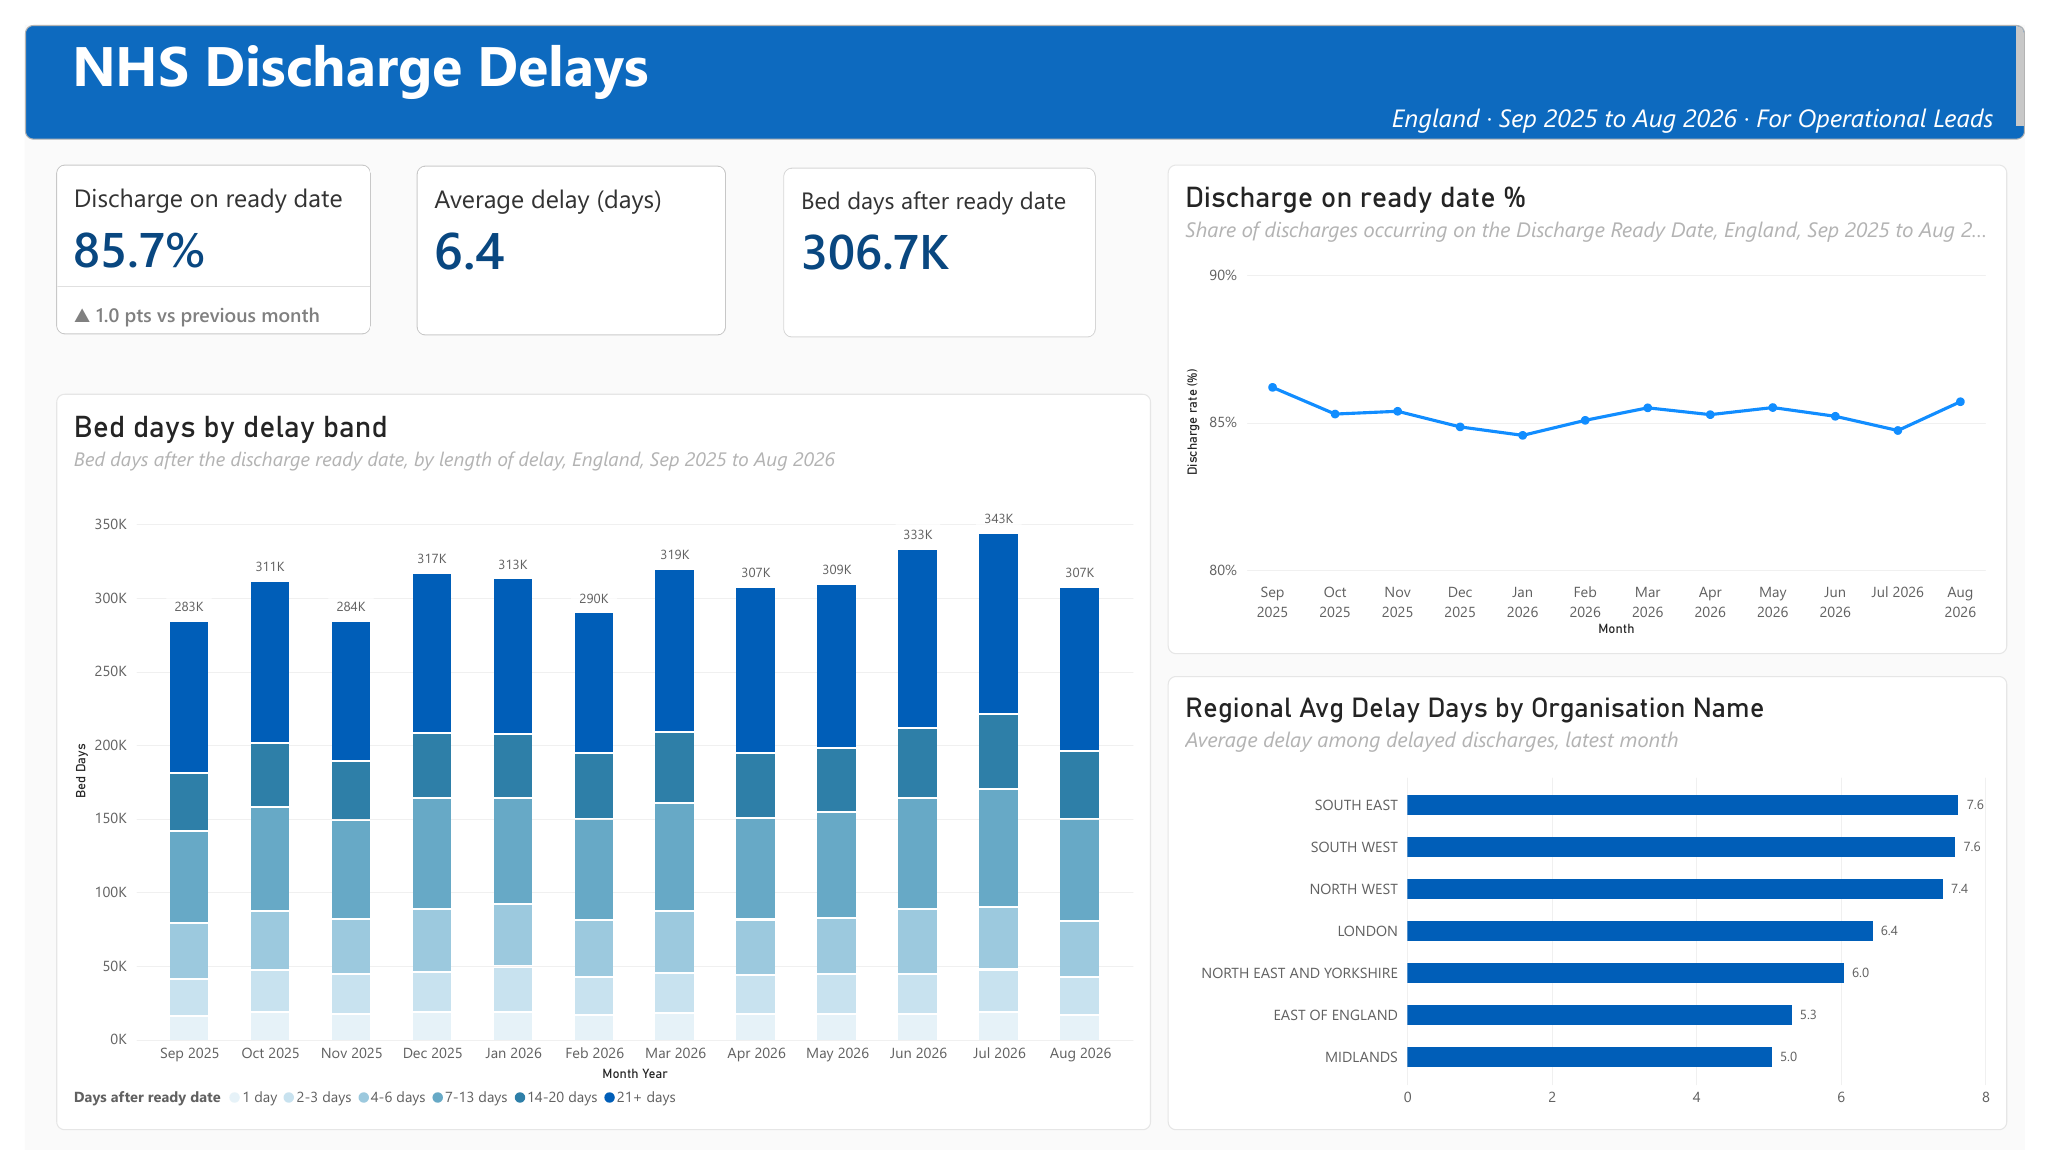

This screenshot's page, from the dashboard's own definition file:
{"tool":"powerbi","page":{"name":"Page 1","canvas":[1920,1080],"ordinal":0},"visuals":[{"type":"cardVisual","title":"Discharge on ready date %","fields":{"Data":["Calendar.Latest Same Day Discharge %"]},"box":[29.5,134,302.1,163.5],"z":0},{"type":"cardVisual","fields":{"Data":["Calendar.Latest Average Delay Days"]},"box":[376.1,134.8,297.8,163],"z":1000},{"type":"cardVisual","fields":{"Data":["Calendar.Latest Bed Days Lost"]},"box":[728.3,137,300,163],"z":2000},{"type":"lineChart","title":"Discharge on ready date %","fields":{"Category":["Calendar.Month Year"],"Y":["Calendar.Latest Same Day Discharge %"]},"box":[1097,134,806.3,470.2],"z":3000},{"type":"lineStackedColumnComboChart","title":"Bed days by delay band","fields":{"Category":["Calendar.Month Year"],"Series":["NHS Data.Band Label"],"Y":["Sum(NHS Data.Value)"]},"box":[29.5,354.3,1051.6,706.4],"z":4000},{"type":"barChart","fields":{"Category":["NHS Data.Organisation Name"],"Y":["Calendar.Regional Avg Delay Days"]},"box":[1097,624.6,806.3,436.1],"z":5000},{"type":"textbox","box":[0,0,1920,110],"z":6000}]}

Visuals, with their boxes in screenshot pixels (x1, y1, x2, y2), scaled from the page's 1920x1080 canvas onto the 2050x1175 screenshot:
"Discharge on ready date %" cardVisual: left=31, top=146, right=354, bottom=324
cardVisual - Calendar.Latest Average Delay Days: left=402, top=147, right=720, bottom=324
cardVisual - Calendar.Latest Bed Days Lost: left=778, top=149, right=1098, bottom=326
"Discharge on ready date %" lineChart: left=1171, top=146, right=2032, bottom=657
"Bed days by delay band" lineStackedColumnComboChart: left=31, top=385, right=1154, bottom=1154
barChart - NHS Data.Organisation Name x Calendar.Regional Avg Delay Days: left=1171, top=680, right=2032, bottom=1154
textbox: left=0, top=0, right=2049, bottom=120
